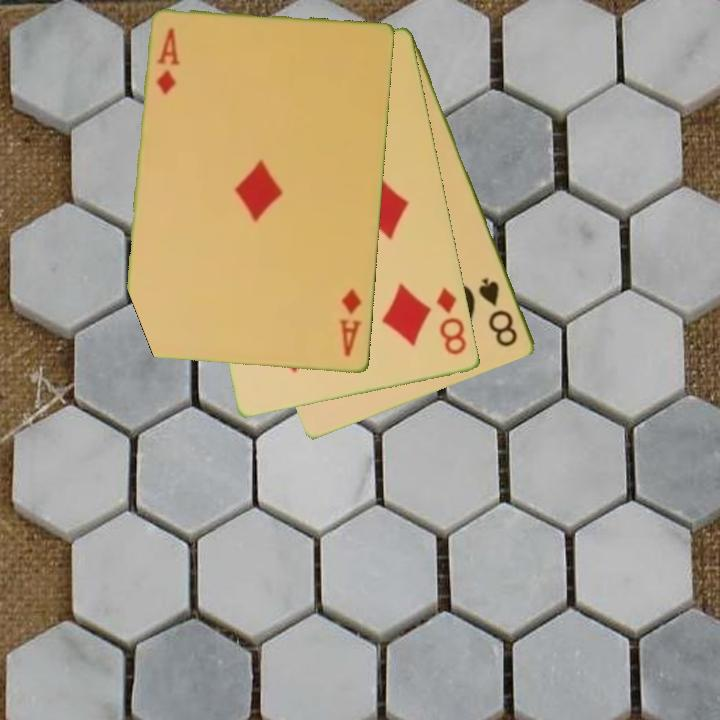8d: (433, 284, 470, 358)
8s: (475, 274, 521, 351)
Ad: (337, 285, 366, 360), (153, 25, 182, 98)
